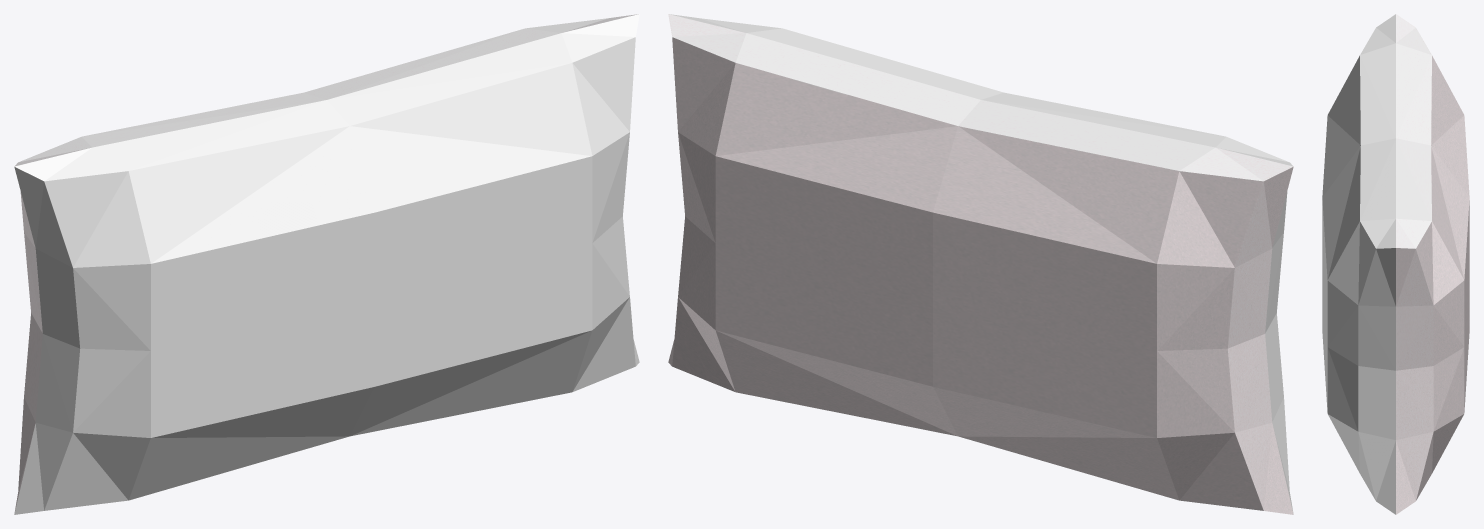
File: HospitalPillow.obj
The picture shows the model from 3 angles, left to right: view 1: azimuth 30°, elevation 25°; view 2: azimuth 150°, elevation 25°; view 3: azimuth 270°, elevation 25°; orthographic projection. The views are drawn at different scales.
Parts seen in each view (by area): view 1: pillow_Cube; view 2: pillow_Cube; view 3: pillow_Cube.
Boxes of the visible parts, x1,y1,x2,y2 form: pillow_Cube: (14,14,639,514); pillow_Cube: (668,14,1293,514); pillow_Cube: (1322,14,1469,514).
Bounding box in the file's own units: 0.62 × 0.33 × 0.165.
Materials: 1 (1 with a texture image).
